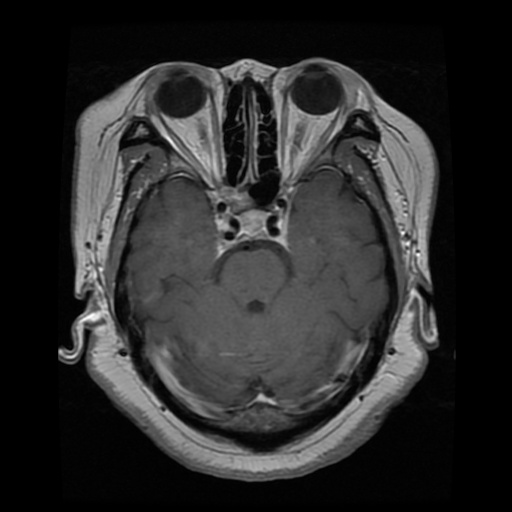pituitary: (241, 210, 267, 235)
